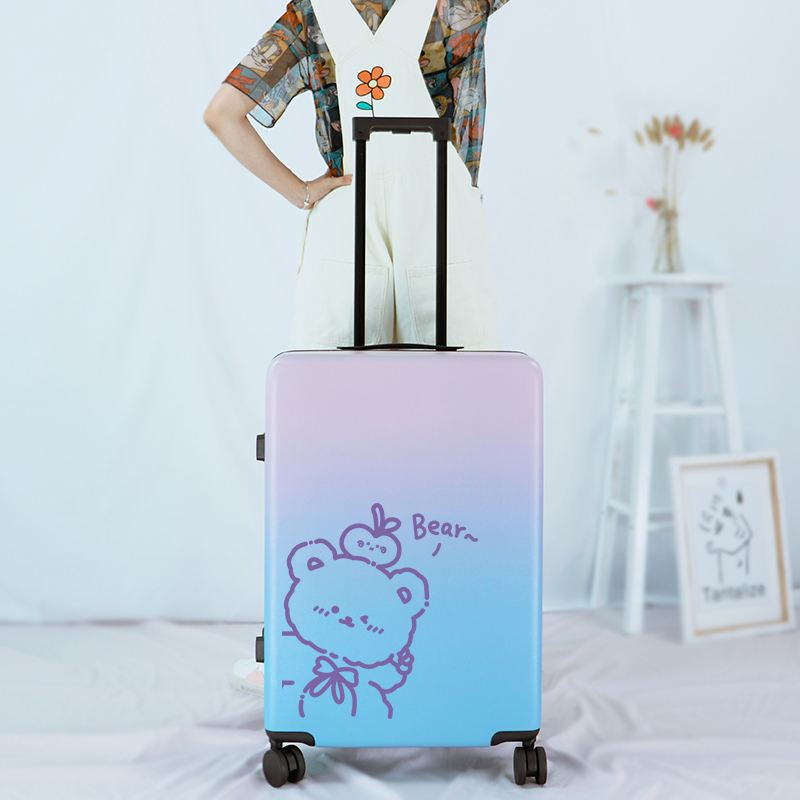box: (264, 351, 542, 748)
wheel: (263, 744, 306, 788), (513, 745, 548, 786)
